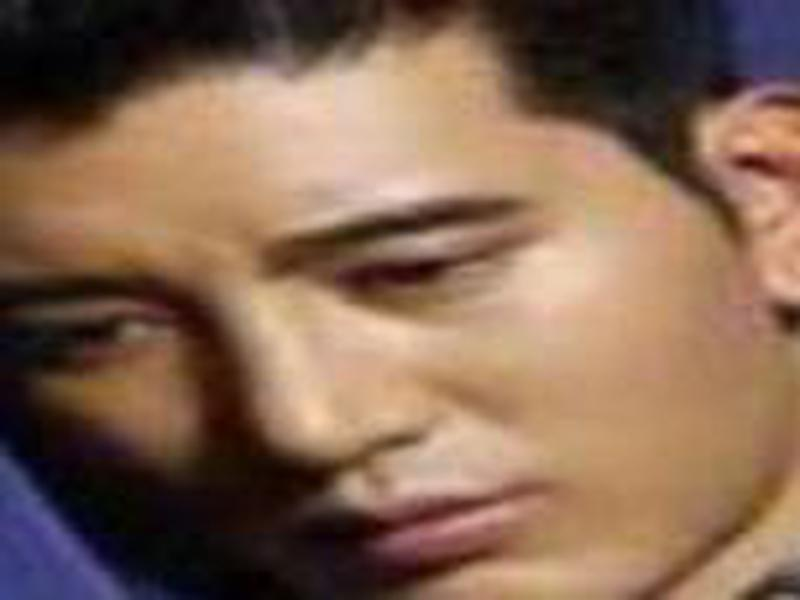without_mask: (10, 42, 749, 600)
